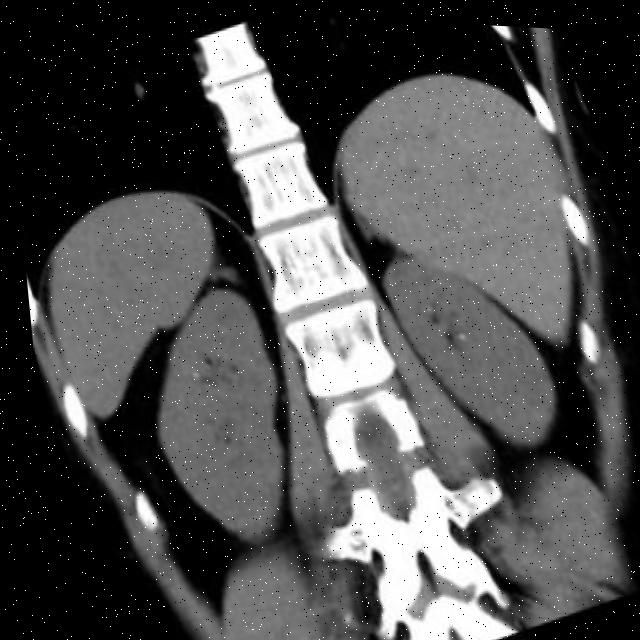Tas_Var: (180, 364, 198, 380), (416, 294, 432, 311), (448, 322, 464, 336)
